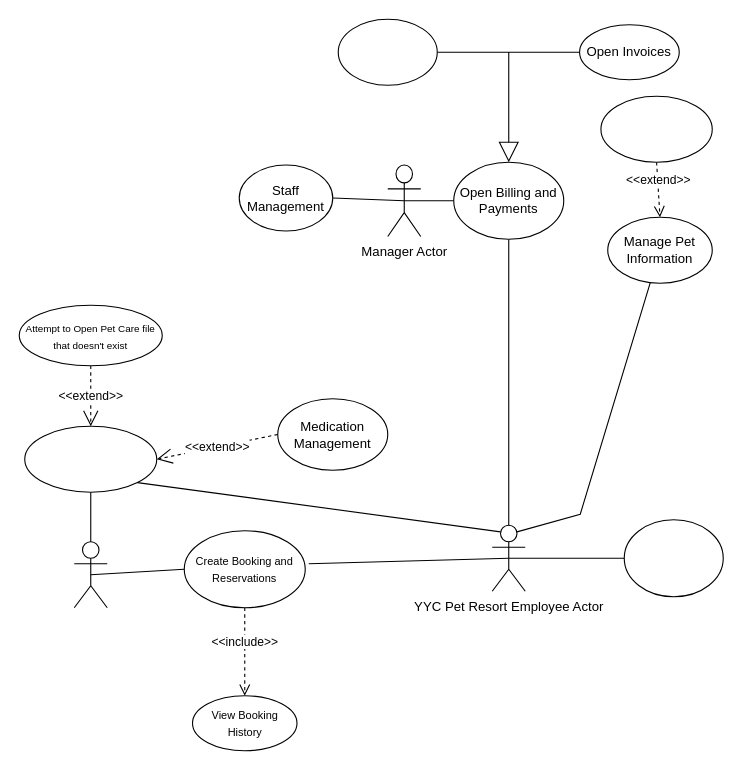
The diagram is 743 pixels wide and 770 high, and some of its shapes have lost their labels. Here are the shapes that lost their labels. From the top down, the centre of each, then its label:
(387,51): Open Customer Transaction
(656,128): Attempt to Create Multiple Entries of the Same Pet
(90,458): Pet Care Instructions Generation
(90,574): Client Actor
(673,558): Manage Client Information
